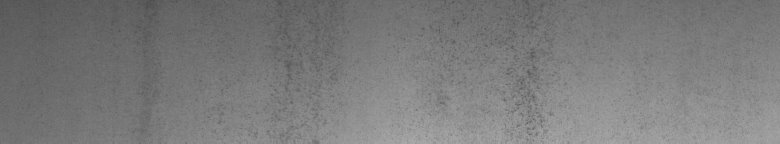ib: (440, 14, 547, 136)
